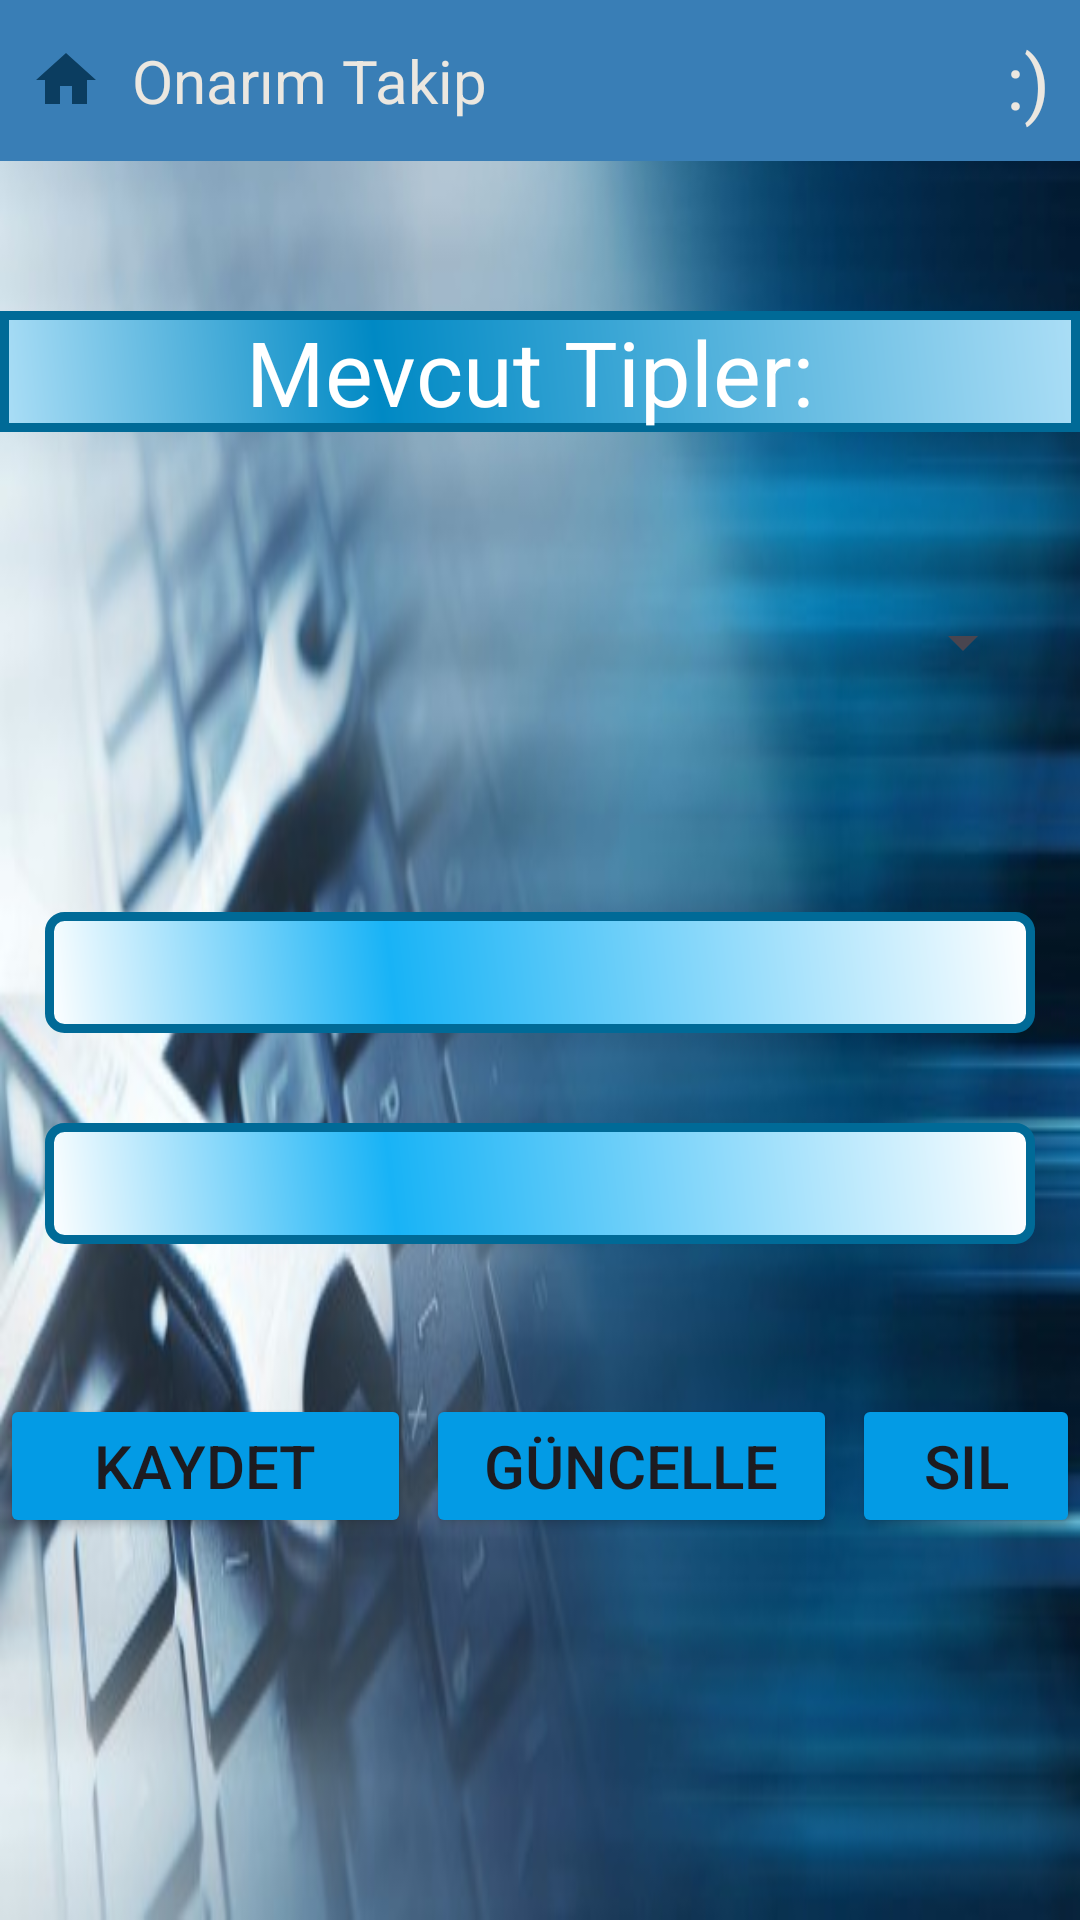

Where to tap for icons on this 1080w x 1920h app screen, as point (x, y):
home: point (66, 78)
